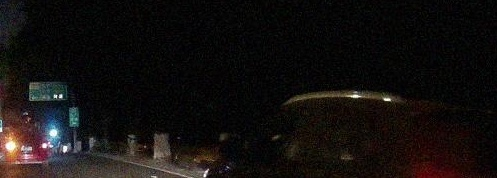L_light: (6, 144, 16, 149)
R_light: (39, 143, 47, 148)
T_light: (21, 133, 29, 136)
night-left: (5, 132, 48, 170)
